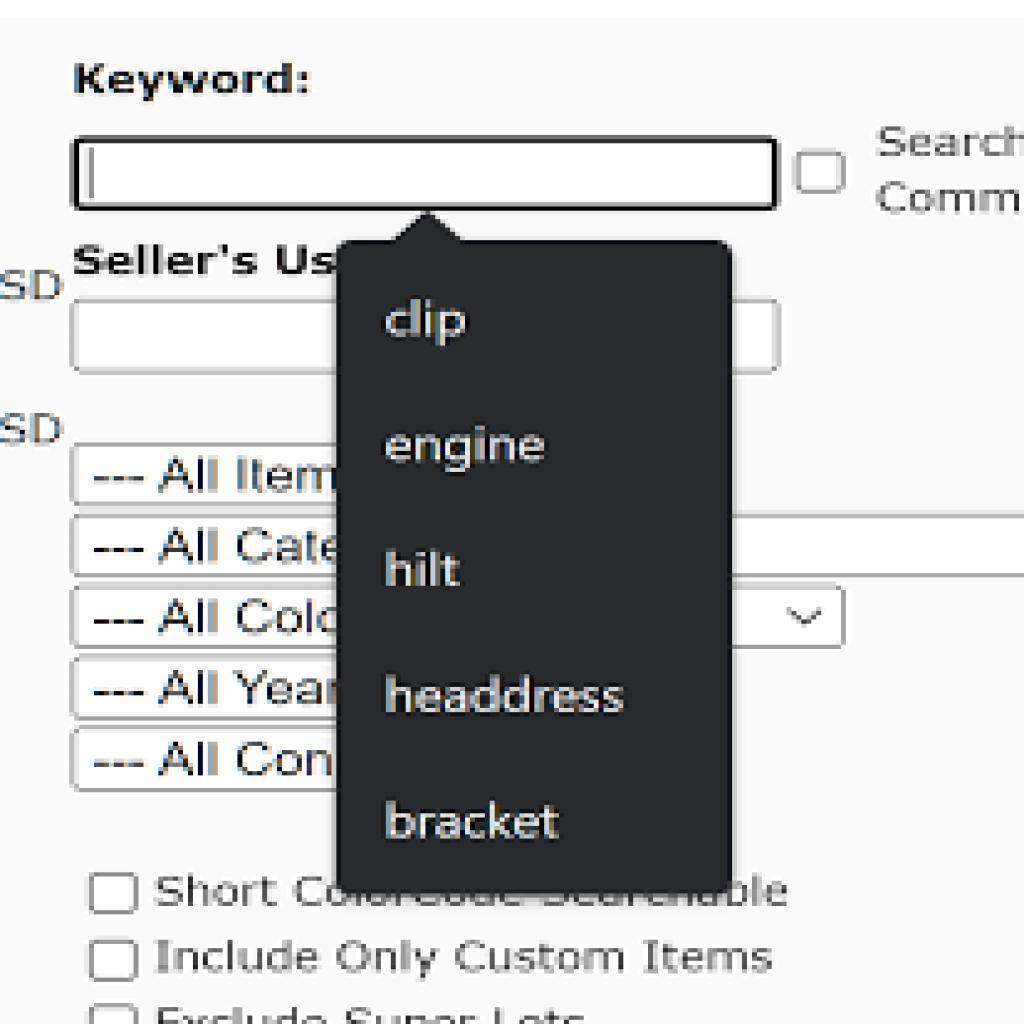checkbox: (86, 937, 141, 983), (794, 149, 846, 196), (87, 871, 140, 915)
dropdown: (733, 584, 847, 650)
input: (69, 132, 782, 215), (69, 299, 336, 374)
label: (150, 934, 776, 980), (73, 59, 315, 108)
